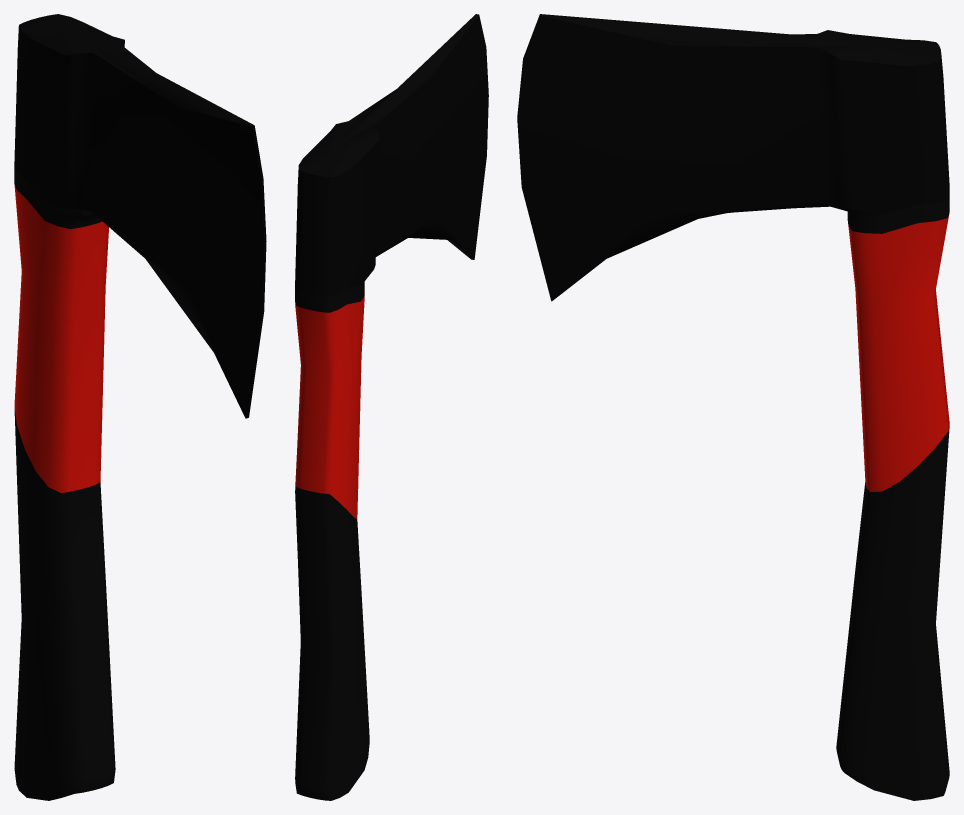
Rendered from Hacha 2.fbx.
The picture shows the model from 3 angles, left to right: view 1: azimuth 30°, elevation 25°; view 2: azimuth 150°, elevation 25°; view 3: azimuth 270°, elevation 25°; orthographic projection. The views are drawn at different scales.
Visible parts, largest first — view 1: pCylinder1; view 2: pCylinder1; view 3: pCylinder1.
Boxes of the visible parts, x1=… form: pCylinder1: x1=14, y1=14, x2=266, y2=800; pCylinder1: x1=295, y1=14, x2=488, y2=800; pCylinder1: x1=517, y1=14, x2=949, y2=800.
Size of the model in its own units: 7.12 by 93.89 by 47.4.
